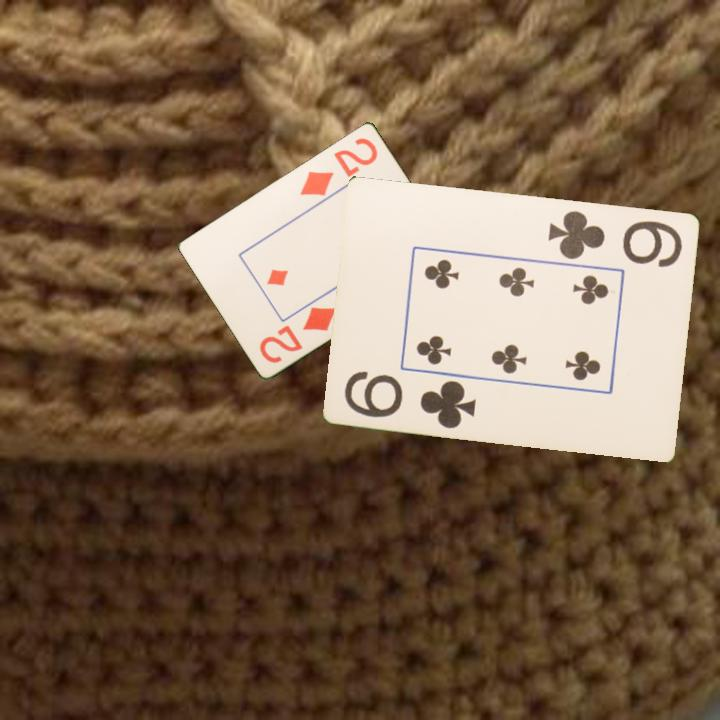2d: (296, 134, 381, 198), (256, 303, 340, 366)
6c: (544, 206, 686, 270), (341, 367, 480, 431)
